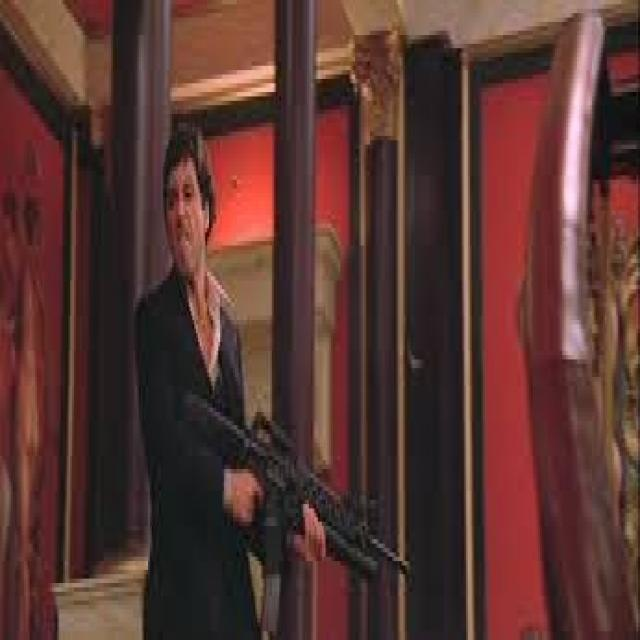weapon: (178, 382, 414, 606)
